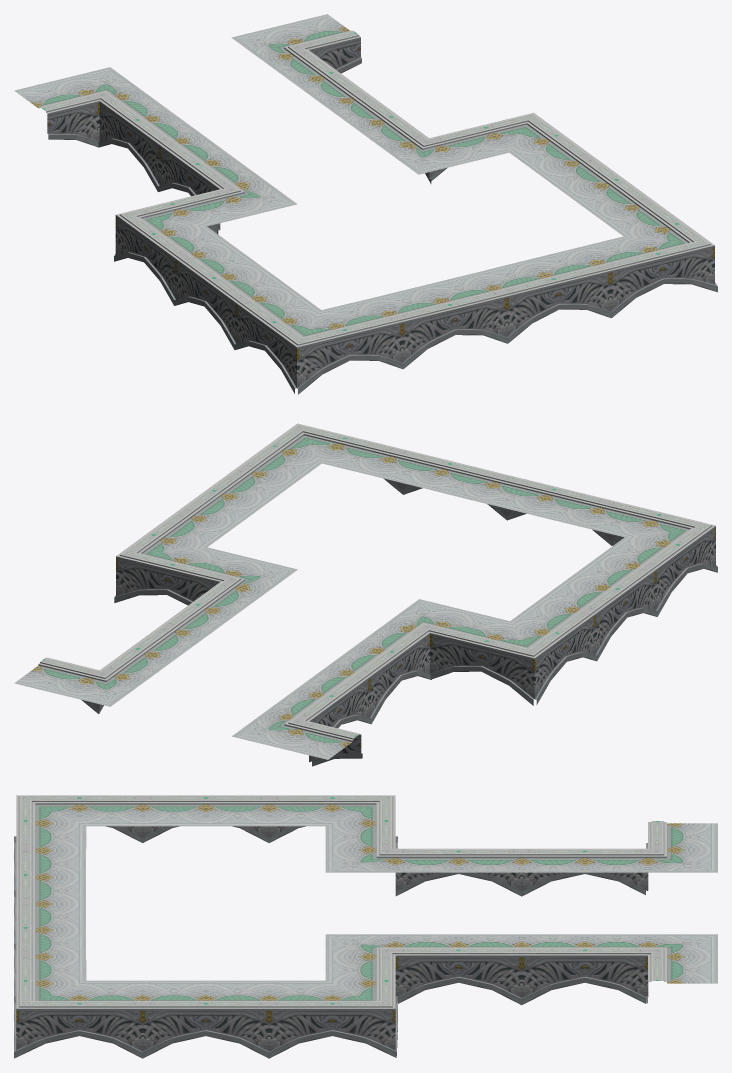
The model's file is W3_HD_GongHuiBoss_baobian_03_03_D.FBX.
3 renders of one model, top to bottom at view 1: azimuth 30°, elevation 25°; view 2: azimuth 150°, elevation 25°; view 3: azimuth 270°, elevation 25°, orthographic. The views are drawn at different scales.
Visible parts, largest first — view 1: W3_HD_GongHuiBoss_baobian_03_03_D; view 2: W3_HD_GongHuiBoss_baobian_03_03_D; view 3: W3_HD_GongHuiBoss_baobian_03_03_D.
Part boxes in pixels (x1,y1,x2,y2): W3_HD_GongHuiBoss_baobian_03_03_D: [14, 14, 717, 394]; W3_HD_GongHuiBoss_baobian_03_03_D: [14, 423, 717, 766]; W3_HD_GongHuiBoss_baobian_03_03_D: [14, 795, 717, 1058].
Bounding box in the file's own units: 44.34 × 4.82 × 61.22.
